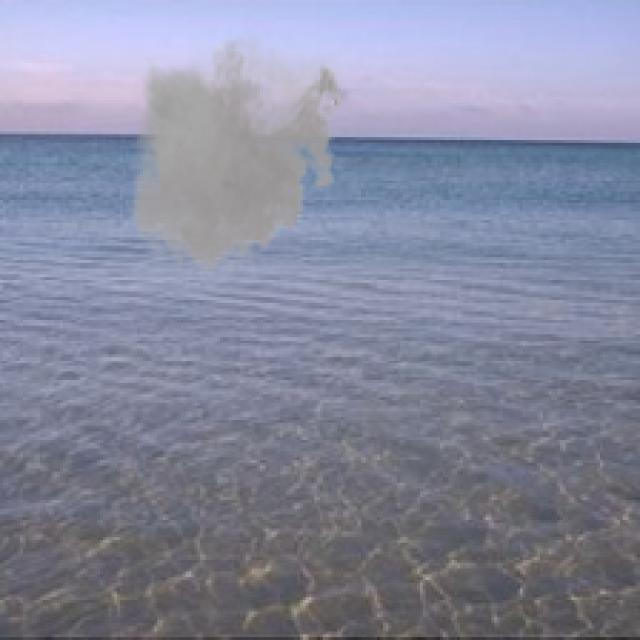smoke: (123, 23, 348, 283)
